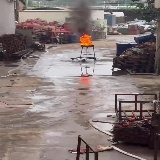fire: (79, 33, 93, 45)
